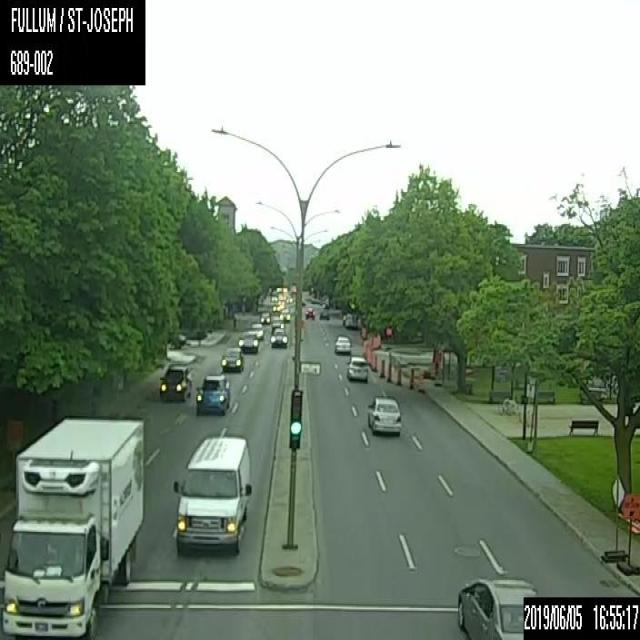construction: (604, 473, 628, 562), (619, 492, 639, 576), (386, 360, 392, 383), (395, 365, 402, 384), (408, 368, 414, 388), (380, 359, 385, 377), (373, 353, 377, 372)
vehicle: (0, 414, 145, 638), (172, 433, 254, 556), (456, 574, 539, 638), (366, 393, 402, 435), (195, 373, 229, 416), (159, 363, 191, 402), (346, 353, 368, 383), (220, 346, 243, 372), (238, 329, 258, 353), (269, 327, 287, 348), (333, 334, 351, 353), (250, 322, 264, 340), (278, 307, 290, 322), (0, 628, 14, 639), (304, 305, 314, 320), (260, 311, 270, 324), (319, 308, 329, 319)
